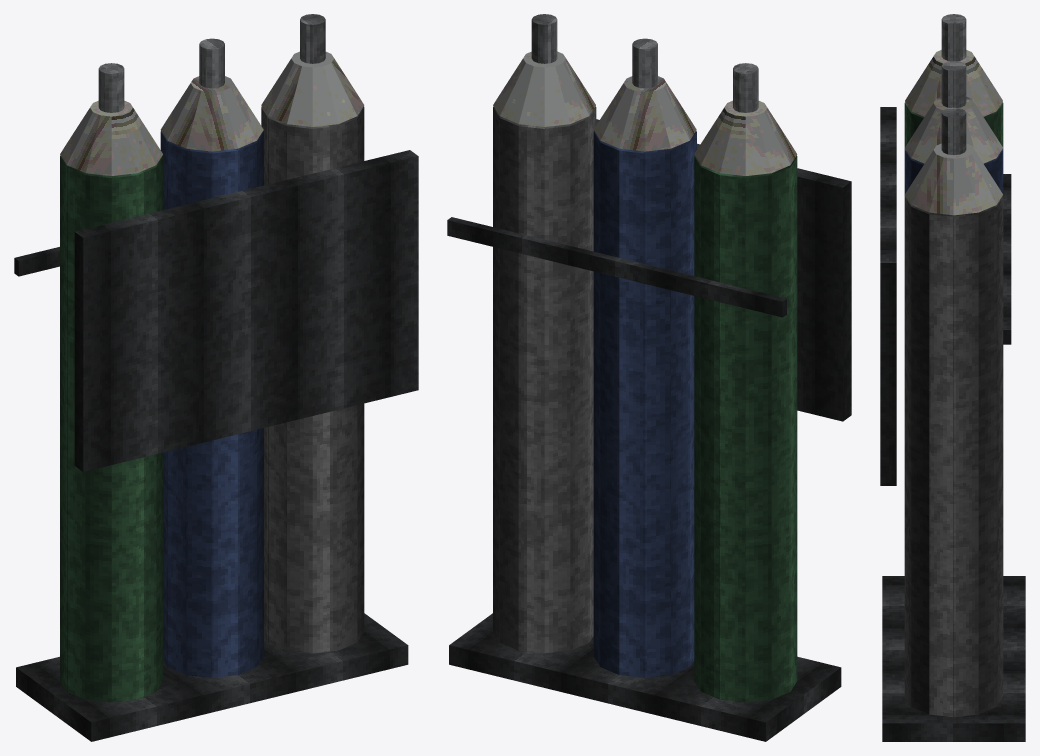
Rendered from gas_cylinders.glb.
The picture shows the model from 3 angles, left to right: view 1: azimuth 30°, elevation 25°; view 2: azimuth 150°, elevation 25°; view 3: azimuth 270°, elevation 25°; orthographic projection. The views are drawn at different scales.
Parts seen in each view (by area): view 1: gas_cylinders; view 2: gas_cylinders; view 3: gas_cylinders.
Boxes of the visible parts, bbox=[...] form: gas_cylinders: bbox=[14, 14, 418, 741]; gas_cylinders: bbox=[447, 14, 851, 741]; gas_cylinders: bbox=[880, 14, 1025, 741].
Bounding box in the file's own units: 0.9 × 1.62 × 0.355.
6 materials, 6 textured.
